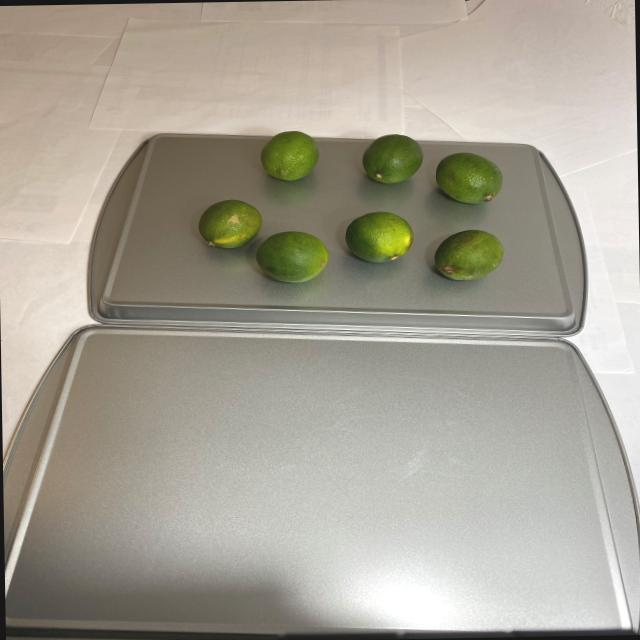lemon: (194, 129, 515, 286)
